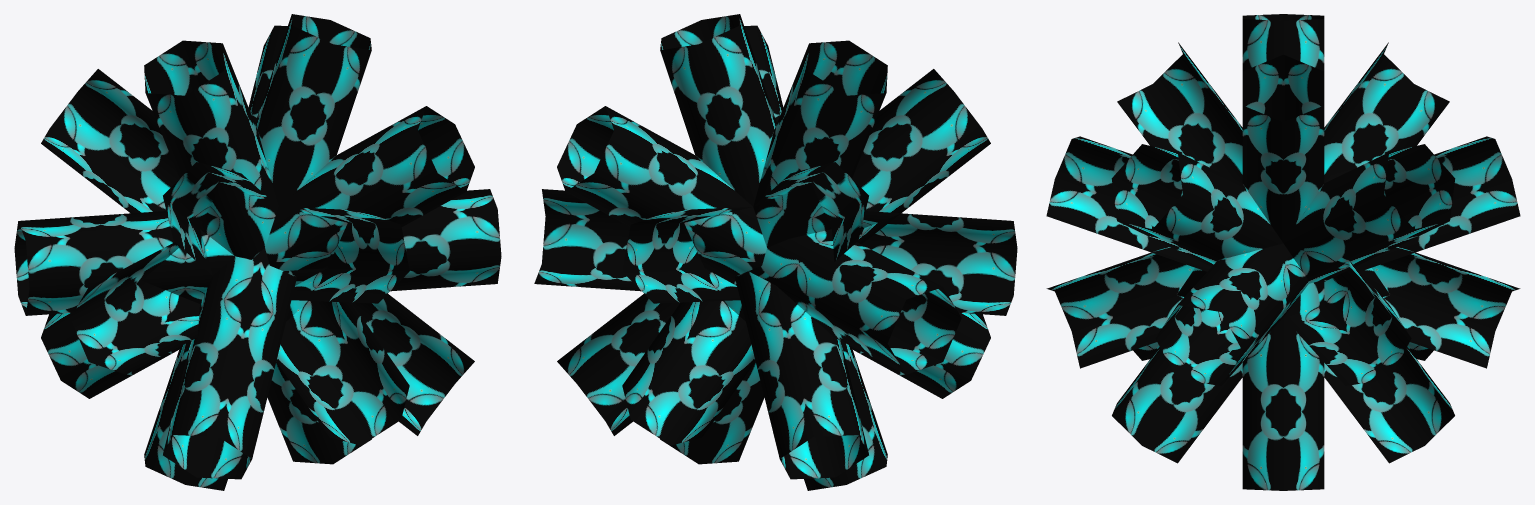
File: GreatDodecahemicosacron22.gltf
3 renders of one model, left to right at view 1: azimuth 30°, elevation 25°; view 2: azimuth 150°, elevation 25°; view 3: azimuth 270°, elevation 25°, orthographic.
Visible parts, largest first — view 1: GreatDodecahemicosacron1; view 2: GreatDodecahemicosacron1; view 3: GreatDodecahemicosacron1.
Part boxes in pixels (x1,y1,x2,y2): GreatDodecahemicosacron1: (14, 14, 501, 490); GreatDodecahemicosacron1: (534, 14, 1017, 490); GreatDodecahemicosacron1: (1046, 14, 1520, 490).
Size of the model in its own units: 10.06 by 10.06 by 10.06.
Materials: 1 (1 with a texture image).
